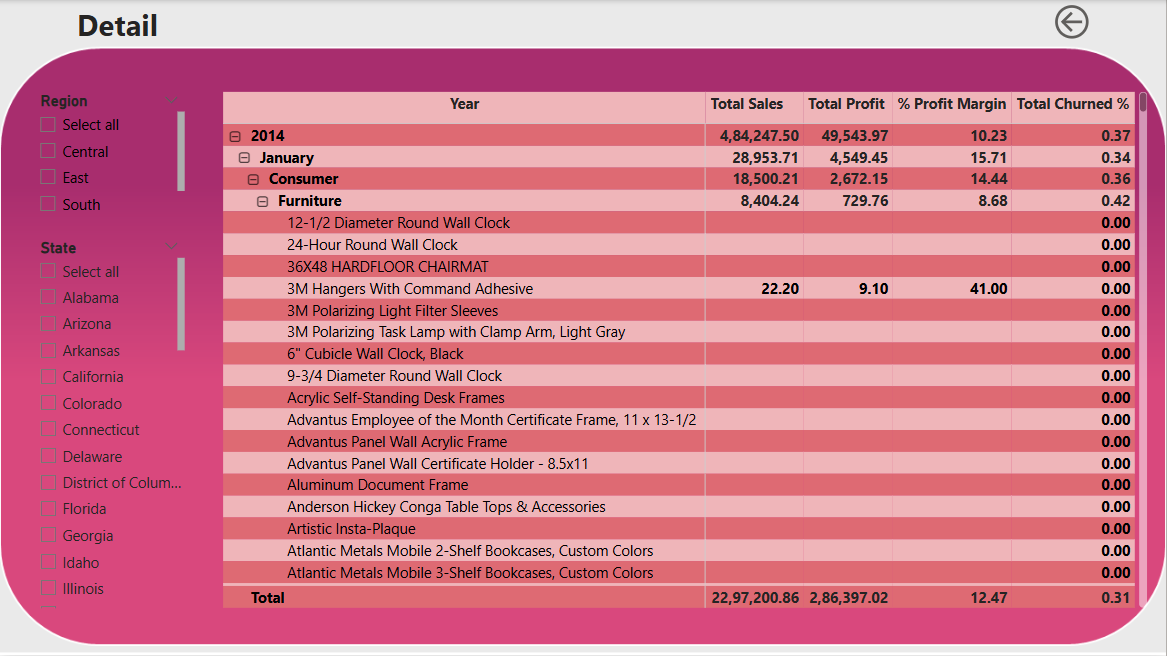

Layout of this report page (visuals, bound fields, positions):
{"tool":"powerbi","page":{"name":"Detail","canvas":[1280,720],"ordinal":1},"visuals":[{"type":"pivotTable","fields":{"Rows":["Superstore cleaned.Order Date.Variation.Date Hierarchy.Year","Superstore cleaned.Order Date.Variation.Date Hierarchy.Month","Superstore cleaned.Segment","Superstore cleaned.Category","Superstore cleaned.Product Name"],"Values":["Sum(Superstore cleaned.Sales)","Sum(Superstore cleaned.Profit)","Superstore cleaned.% Profit Margin","Superstore cleaned.Total Churned %"]},"box":[240,96,1024,576],"z":0},{"type":"slicer","fields":{"Values":["Superstore cleaned.Region"]},"box":[32,96,176,144],"z":1000},{"type":"slicer","fields":{"Values":["Superstore cleaned.State"]},"box":[32,256,176,416],"z":2000},{"type":"textbox","box":[80,0,128,64],"z":3000},{"type":"actionButton","box":[1152,0,96,48],"z":4000}]}

Visuals, with their boxes in screenshot pixels (x1, y1, x2, y2), scaled from the page's 1280x720 canvas onto the 1167x656 screenshot:
pivotTable - Superstore cleaned.Order Date.Variation.Date Hierarchy.Year x Superstore cleaned.Order Date.Variation.Date Hierarchy.Month: x1=219 y1=87 x2=1152 y2=612
slicer - Superstore cleaned.Region: x1=29 y1=87 x2=190 y2=219
slicer - Superstore cleaned.State: x1=29 y1=233 x2=190 y2=612
textbox: x1=73 y1=0 x2=190 y2=58
actionButton: x1=1050 y1=0 x2=1138 y2=44
